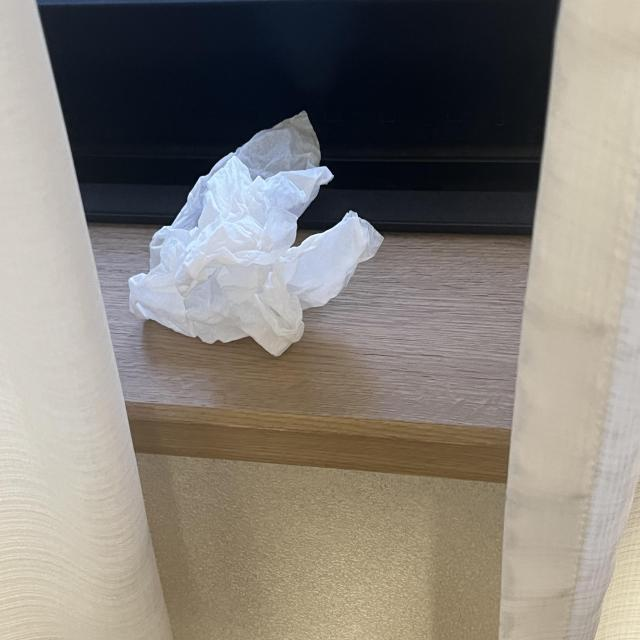Paper: (120, 115, 360, 372)
